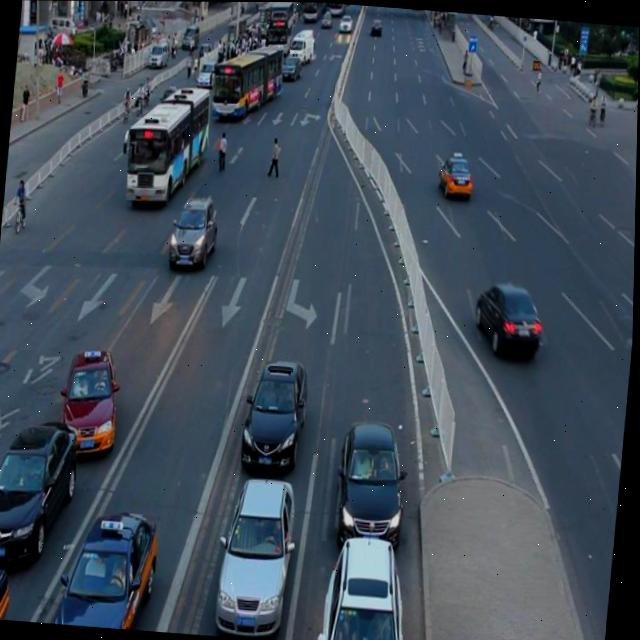car: (213, 470, 301, 640), (53, 500, 163, 631), (0, 413, 84, 571), (333, 417, 414, 551), (322, 529, 418, 640), (239, 355, 311, 474), (59, 345, 125, 458), (472, 277, 545, 356), (167, 190, 221, 270), (436, 154, 475, 198), (0, 561, 15, 620)
van: (122, 80, 213, 206)
